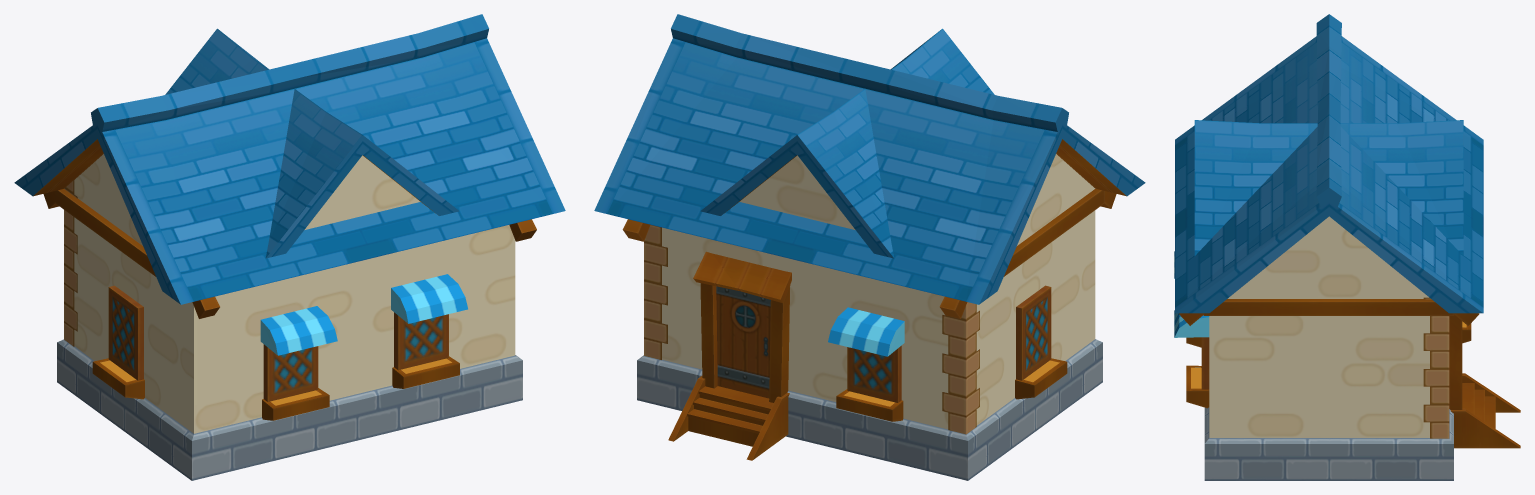
The model's file is HOS0110002.FBX.
3 renders of one model, left to right at view 1: azimuth 30°, elevation 25°; view 2: azimuth 150°, elevation 25°; view 3: azimuth 270°, elevation 25°, orthographic. The views are drawn at different scales.
Visible parts, largest first — view 1: smHOS0110002; view 2: smHOS0110002; view 3: smHOS0110002.
Part boxes in pixels (x1,y1,x2,y2): smHOS0110002: (14,14,565,480); smHOS0110002: (594,14,1145,480); smHOS0110002: (1174,14,1520,480).
Size of the model in its own units: 798 by 654 by 673.
Materials: 1 (1 with a texture image).
